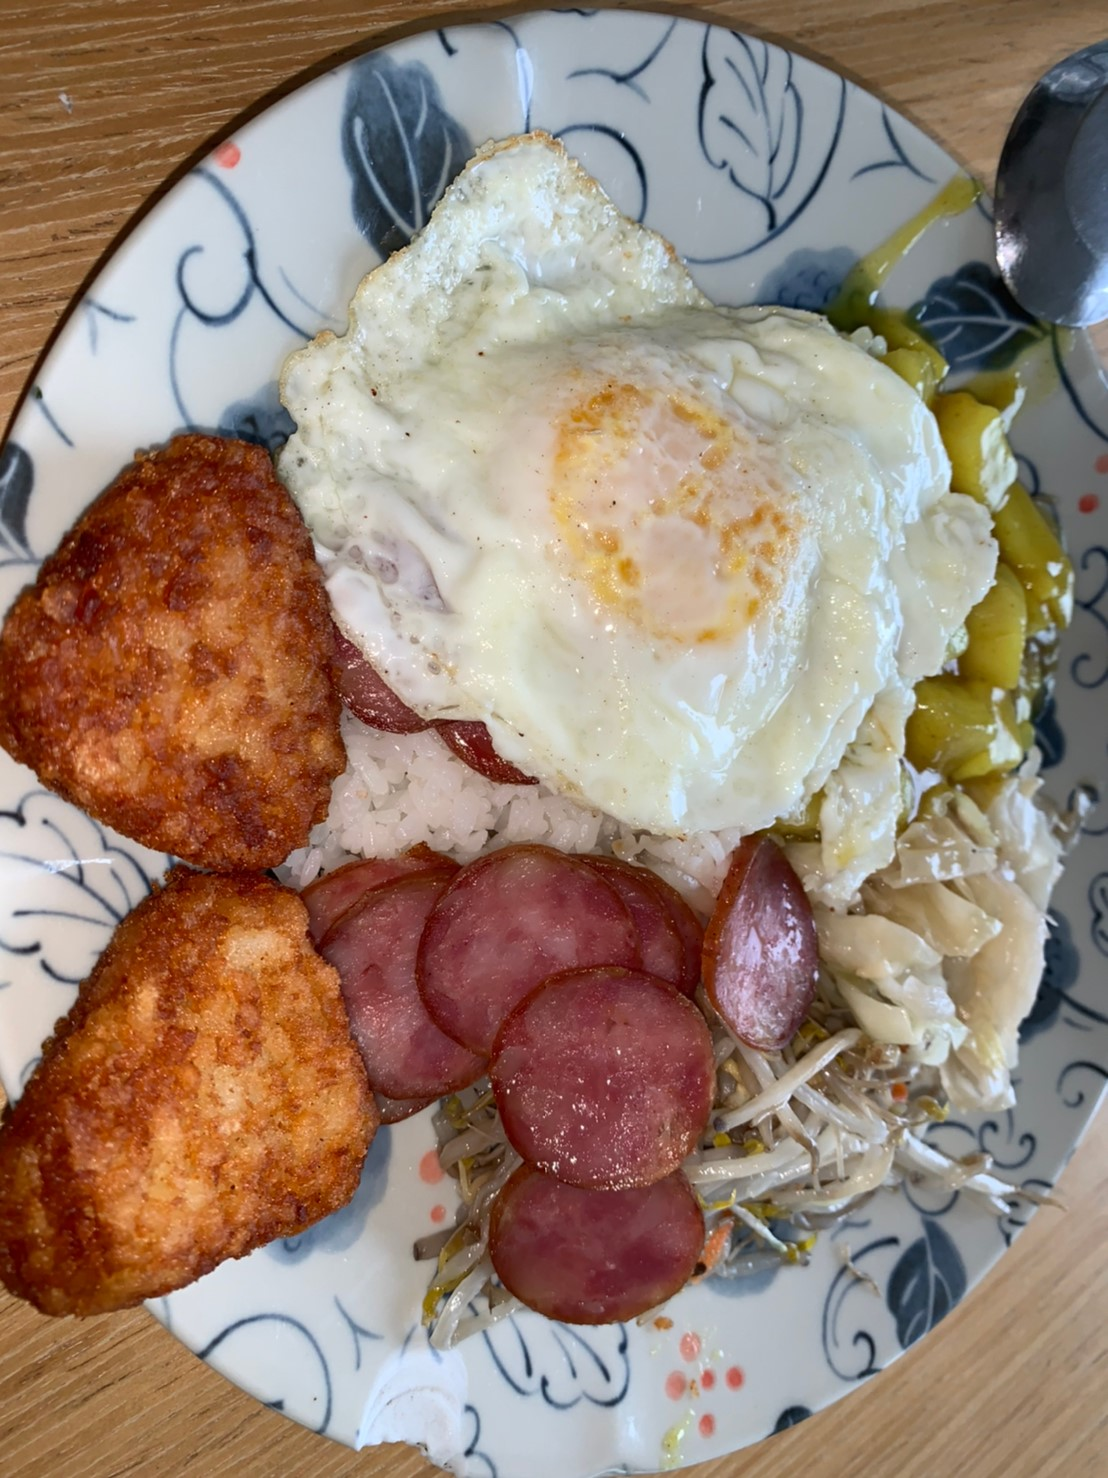chinese_cabbage: (839, 805, 1050, 1078)
chinese_sausage: (312, 846, 828, 1330)
curry: (935, 333, 1067, 761)
fried_eggs: (278, 151, 938, 837)
mung_bean_sprouts: (702, 1038, 908, 1262)
rice: (327, 722, 524, 864)
triangle_hash_brown: (1, 429, 372, 1314)
